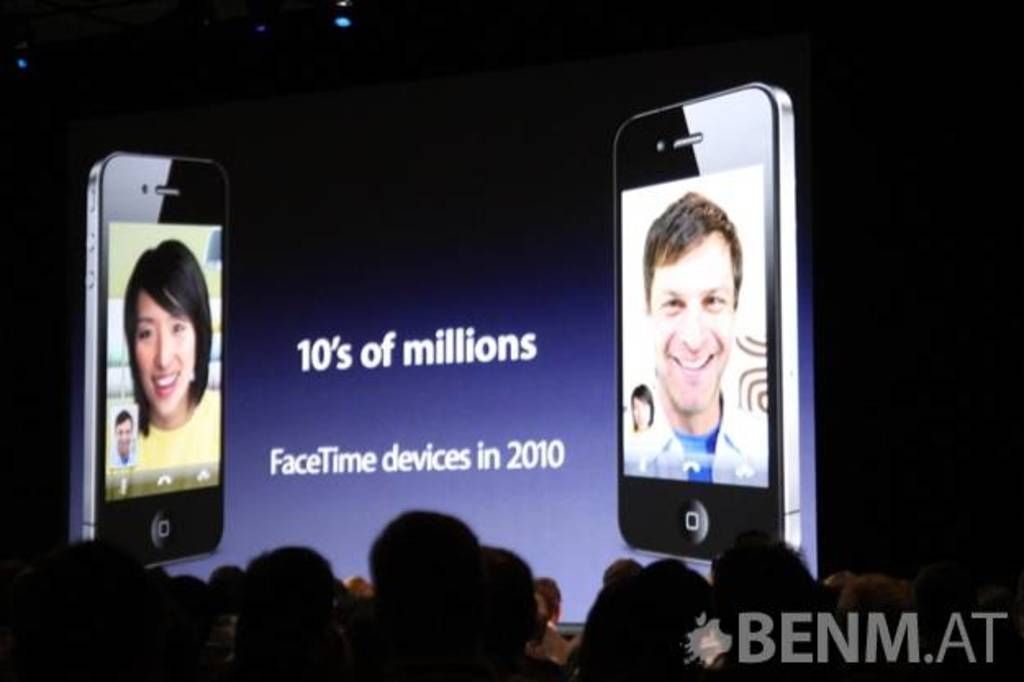Mobile-phone: (603, 84, 803, 554), (67, 154, 226, 579)
